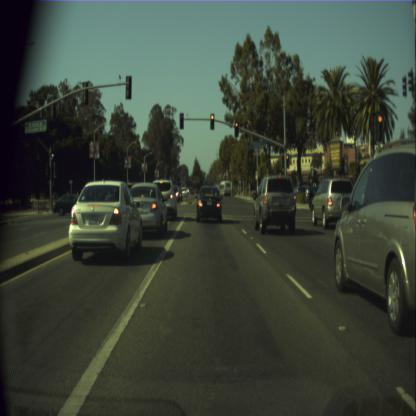Red: (375, 109, 384, 141), (234, 119, 239, 136), (210, 113, 214, 130), (180, 113, 184, 130), (286, 153, 289, 167)
